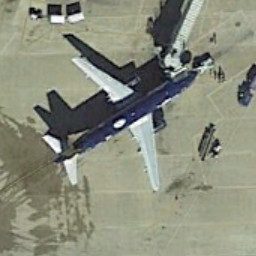Airplane: (21, 42, 204, 194)
